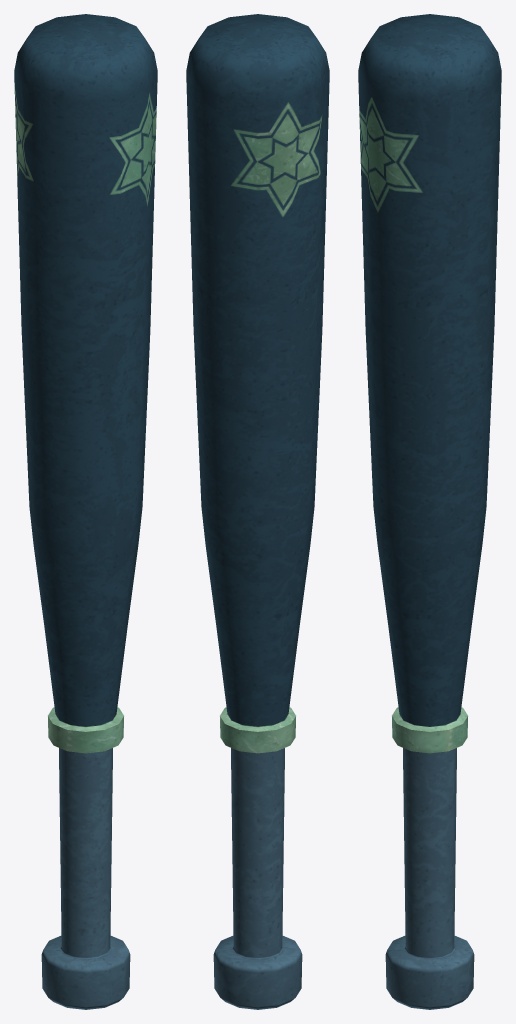
File: GayNangCap_4.fbx
The picture shows the model from 3 angles, left to right: view 1: azimuth 30°, elevation 25°; view 2: azimuth 150°, elevation 25°; view 3: azimuth 270°, elevation 25°; orthographic projection.
Parts seen in each view (by area): view 1: GayNangCap_4; view 2: GayNangCap_4; view 3: GayNangCap_4.
Part boxes in pixels (x1,y1,x2,y2): GayNangCap_4: (14, 14, 157, 1009); GayNangCap_4: (186, 14, 329, 1009); GayNangCap_4: (358, 14, 501, 1009).
Size of the model in its own units: 4.88 by 36.1 by 4.88.
Materials: 1 (1 with a texture image).
